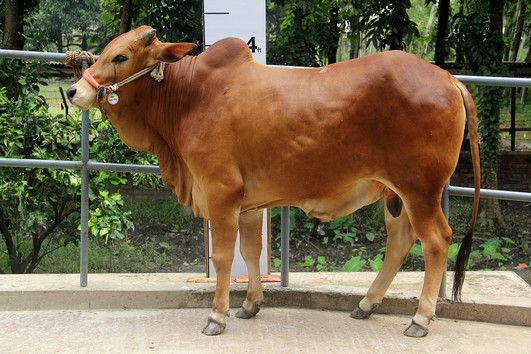cow: (64, 15, 486, 339)
